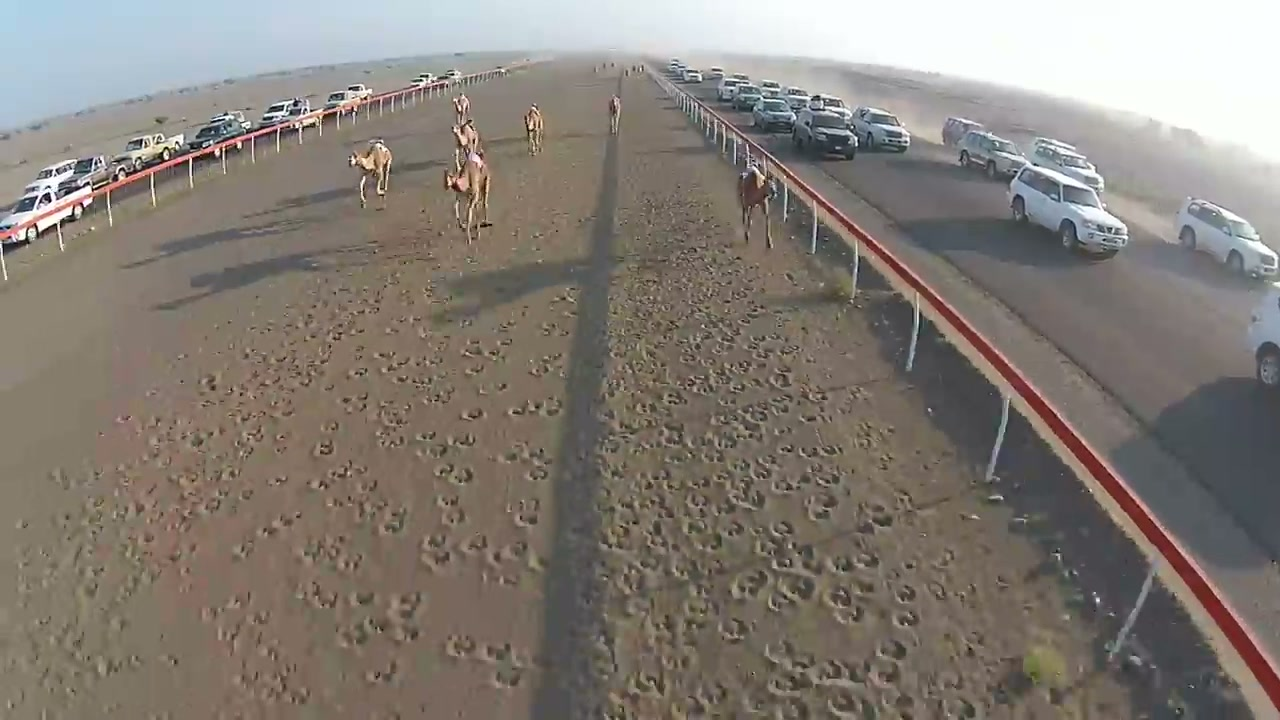animal_footprint: (6, 122, 1203, 717), (597, 238, 1003, 717), (442, 634, 535, 690), (232, 511, 302, 560), (482, 539, 544, 585), (296, 533, 363, 574), (496, 443, 550, 482), (822, 686, 878, 719), (770, 542, 821, 578), (681, 681, 731, 716), (768, 573, 815, 610), (808, 658, 864, 687), (420, 534, 458, 573), (767, 668, 813, 699), (858, 499, 895, 533), (731, 569, 771, 600), (507, 397, 564, 418), (460, 338, 512, 361), (388, 591, 425, 623), (869, 655, 902, 688), (500, 441, 548, 463), (508, 498, 540, 527), (434, 462, 474, 485), (822, 585, 857, 611), (377, 506, 408, 535), (600, 523, 632, 551), (364, 660, 400, 684), (719, 617, 752, 643), (491, 663, 525, 688), (444, 635, 478, 659), (414, 438, 451, 460), (849, 573, 880, 599), (477, 643, 515, 664), (876, 638, 909, 661), (527, 356, 562, 377), (375, 428, 408, 450), (833, 603, 865, 625), (458, 534, 489, 556), (440, 503, 468, 527), (853, 551, 880, 570), (893, 584, 917, 604), (446, 432, 476, 448), (348, 590, 376, 607), (894, 610, 920, 628), (524, 466, 549, 482), (313, 439, 334, 457), (461, 407, 485, 421), (464, 363, 486, 377), (320, 420, 340, 434), (413, 430, 436, 442)
